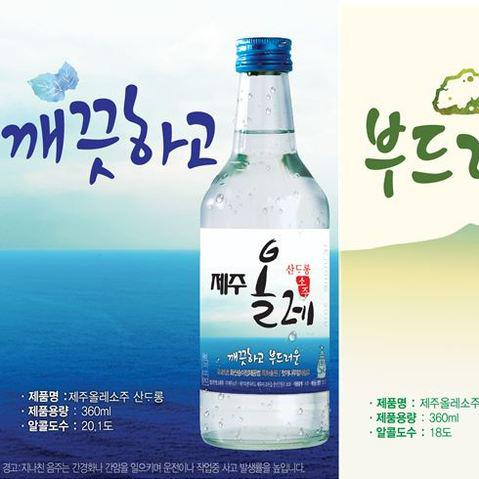soju: (192, 35, 339, 453)
